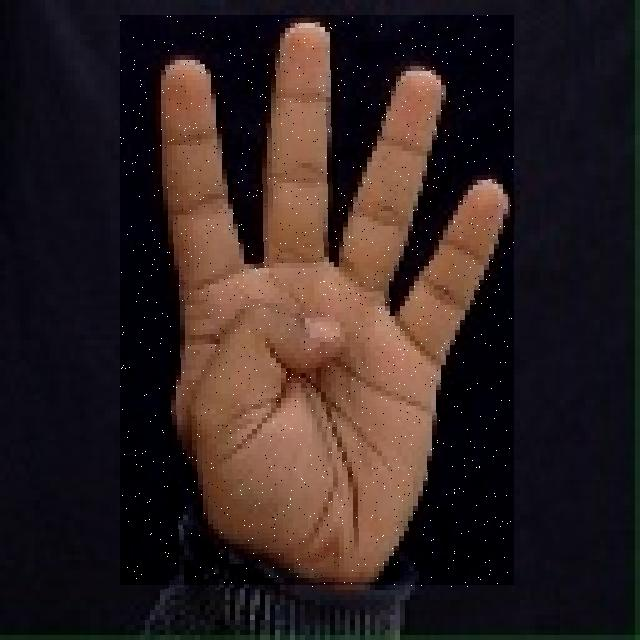Thanks: (120, 15, 514, 588)
